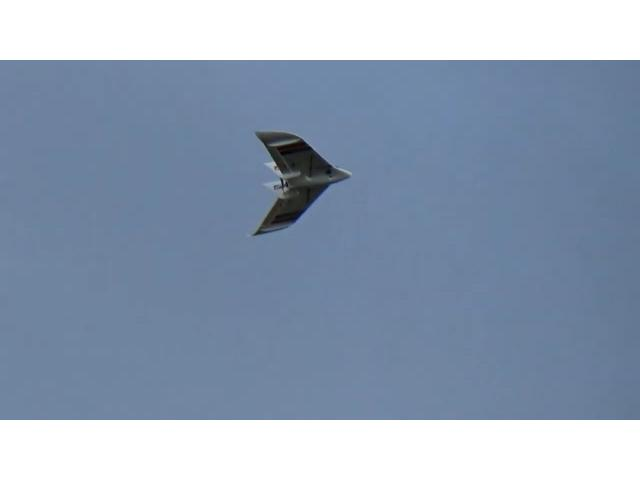Anti-Drone: (244, 128, 352, 238)
